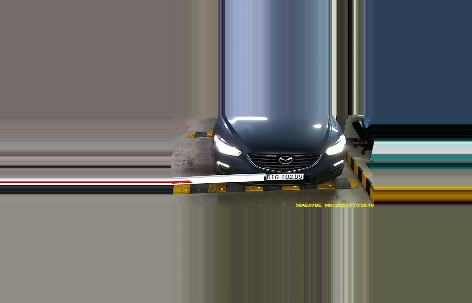plate: (263, 171, 305, 180)
